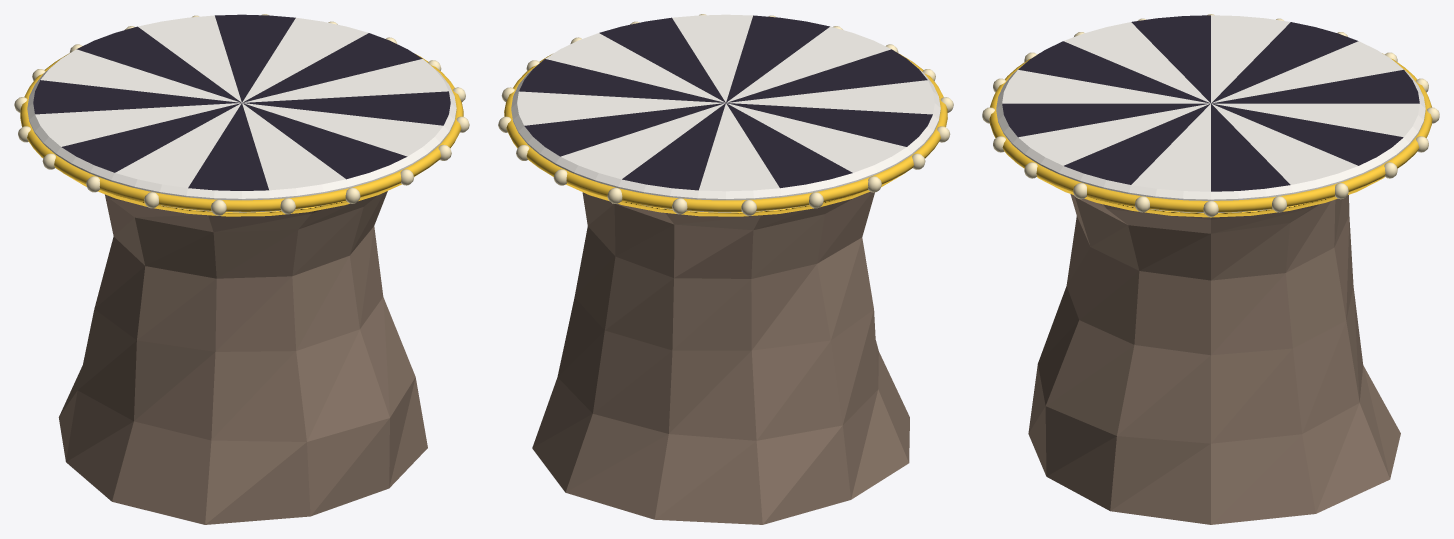
The model's file is RefereeStand.obj.
3 views of the same model, side by side, from view 1: azimuth 30°, elevation 25°; view 2: azimuth 150°, elevation 25°; view 3: azimuth 270°, elevation 25° (orthographic).
Visible parts, largest first — view 1: Rock, Stage, StageAlt, Trim, Bulbs; view 2: Rock, Stage, StageAlt, Trim, Bulbs; view 3: Rock, Stage, StageAlt, Trim, Bulbs.
Part boxes in pixels (left/top/right/bottom): Rock: left=58, top=191, right=427, bottom=524; Stage: left=27, top=15, right=456, bottom=212; StageAlt: left=33, top=14, right=450, bottom=190; Trim: left=20, top=53, right=463, bottom=216; Bulbs: left=14, top=14, right=469, bottom=215; Rock: left=532, top=191, right=909, bottom=524; Stage: left=511, top=14, right=940, bottom=212; StageAlt: left=519, top=15, right=932, bottom=190; Trim: left=504, top=53, right=947, bottom=216; Bulbs: left=498, top=14, right=953, bottom=215; Rock: left=1028, top=194, right=1400, bottom=524; Stage: left=996, top=15, right=1425, bottom=212; StageAlt: left=1002, top=15, right=1419, bottom=191; Trim: left=989, top=53, right=1432, bottom=217; Bulbs: left=982, top=14, right=1439, bottom=216.
Size of the model in its own units: 23.48 by 19.3 by 23.44.
